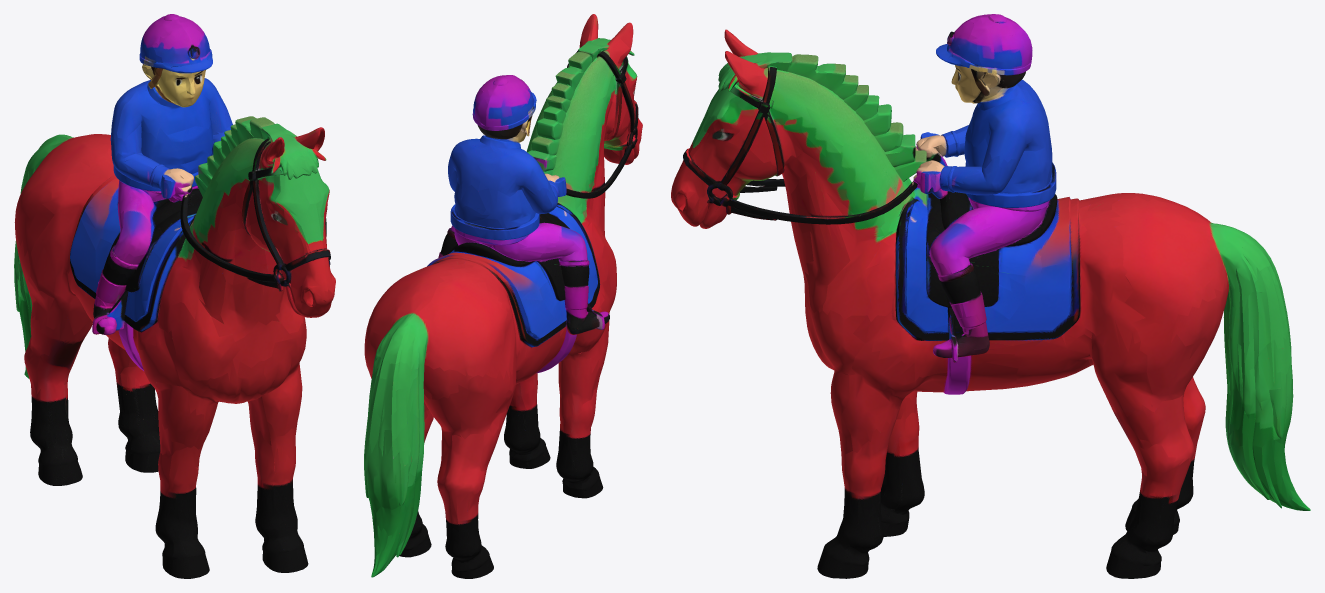
The model's file is meshy-robusto-folhas.glb.
3 renders of one model, left to right at view 1: azimuth 30°, elevation 25°; view 2: azimuth 150°, elevation 25°; view 3: azimuth 270°, elevation 25°, orthographic. The views are drawn at different scales.
Bounding box in the file's own units: 0.7229 × 1.75 × 1.9.
Materials: 1 (1 with a texture image).
